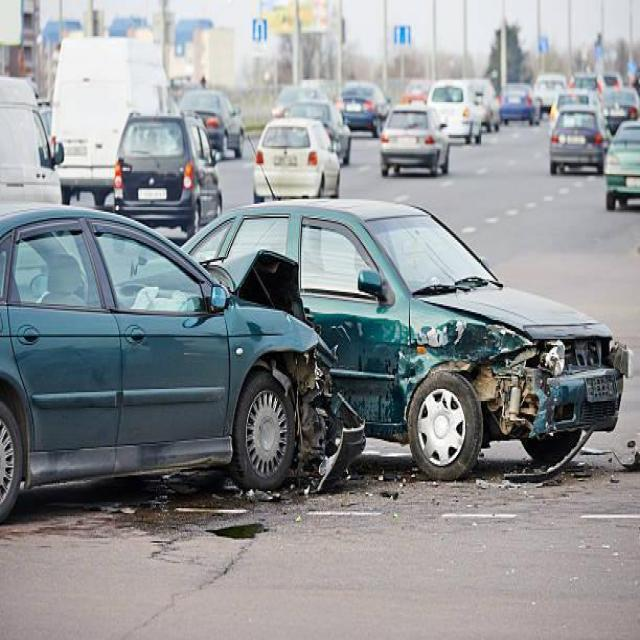accident: (1, 178, 630, 512)
